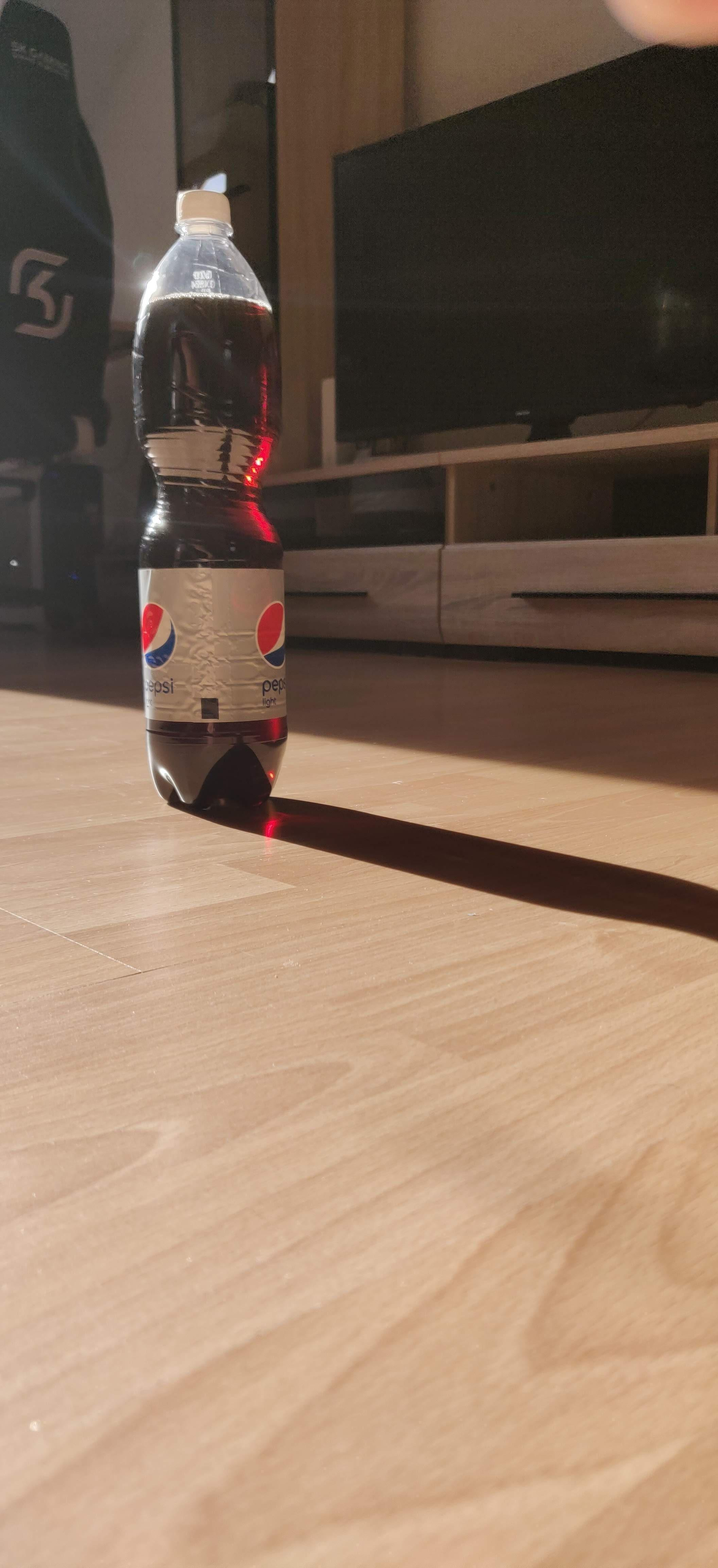bottle-plastic: (132, 187, 292, 808)
